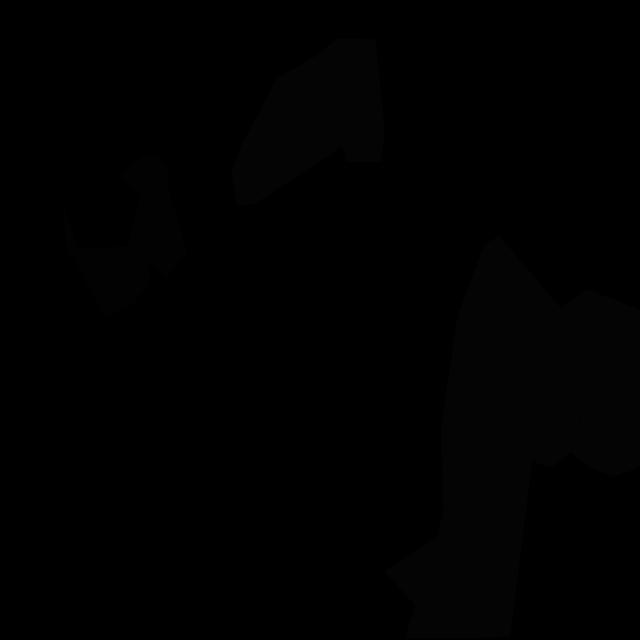cardboard: (62, 154, 188, 317)
soft_plastic: (384, 236, 590, 638), (232, 38, 385, 206), (532, 289, 640, 477)
